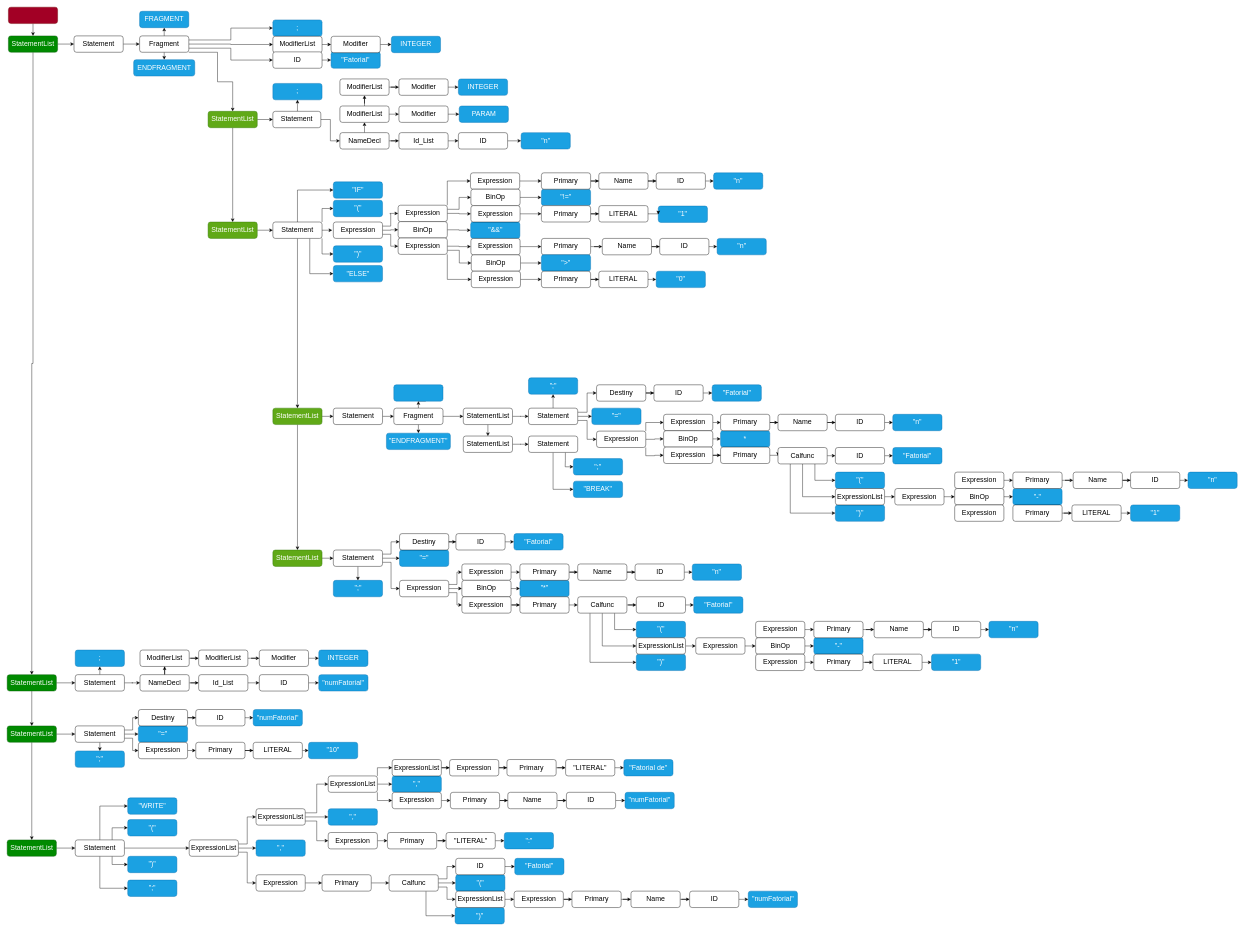
Image size: 1244x931. Some labels were removed from this diagram. Each missing label, with the centre of its shape:
"FRAGMENT": the point at 418,392
Program: the point at 33,15
